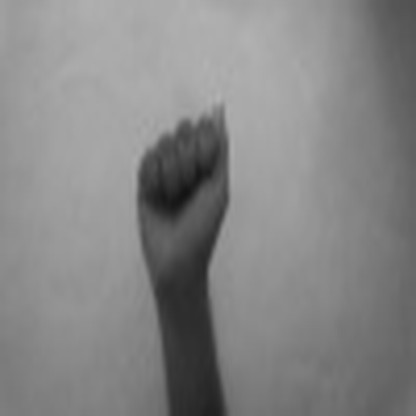a: (122, 86, 241, 276)
